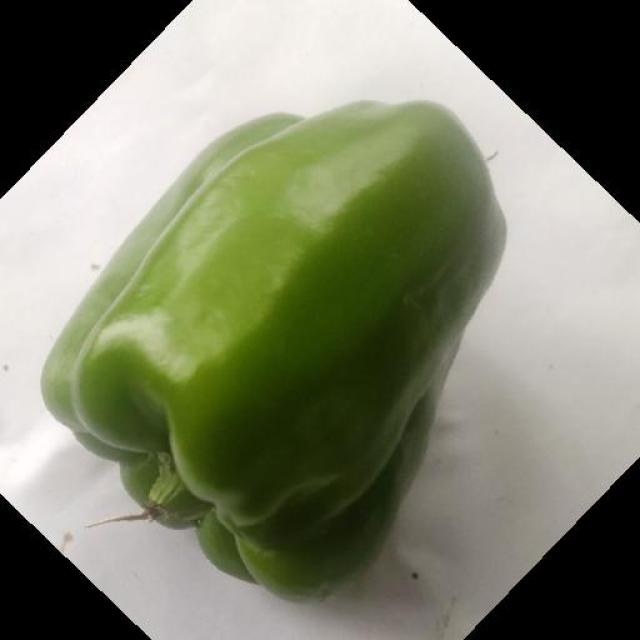Fresh_Capsicum: (118, 94, 437, 540)
